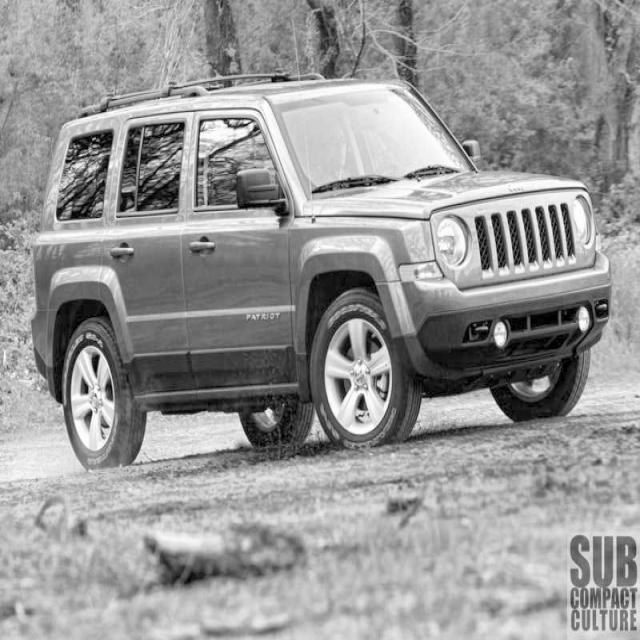car: (30, 68, 612, 472)
